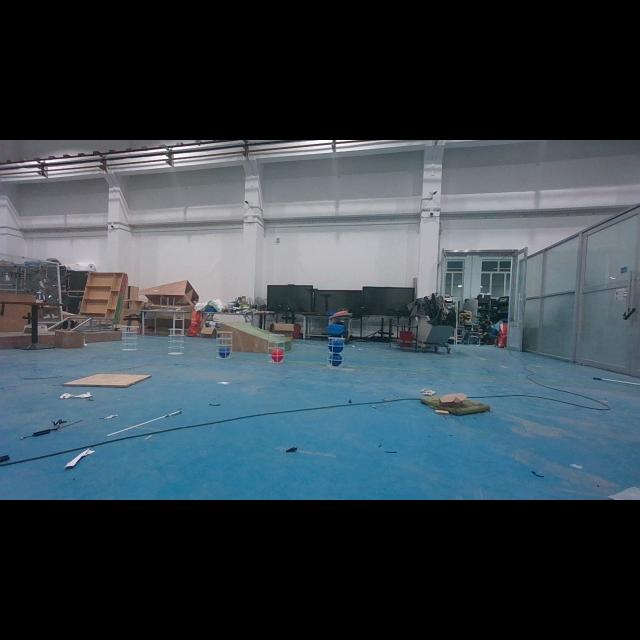B: (327, 339, 345, 353), (330, 354, 342, 366), (217, 346, 231, 356)
R: (270, 351, 284, 361)
S: (326, 335, 348, 369), (166, 327, 188, 358), (213, 329, 234, 361), (120, 324, 142, 354), (267, 334, 287, 364)
